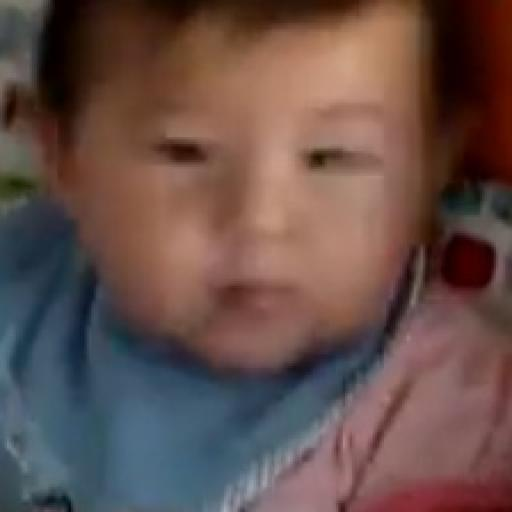Autism: (75, 14, 498, 403)
